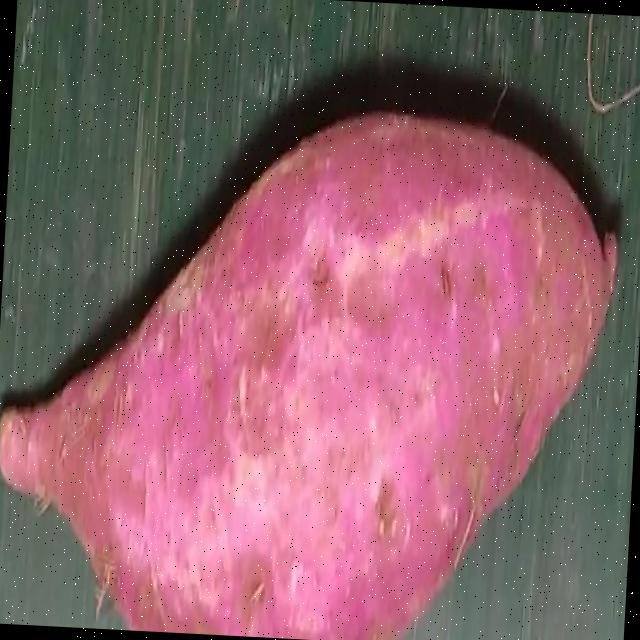Sweet Potato: (0, 110, 617, 640)
